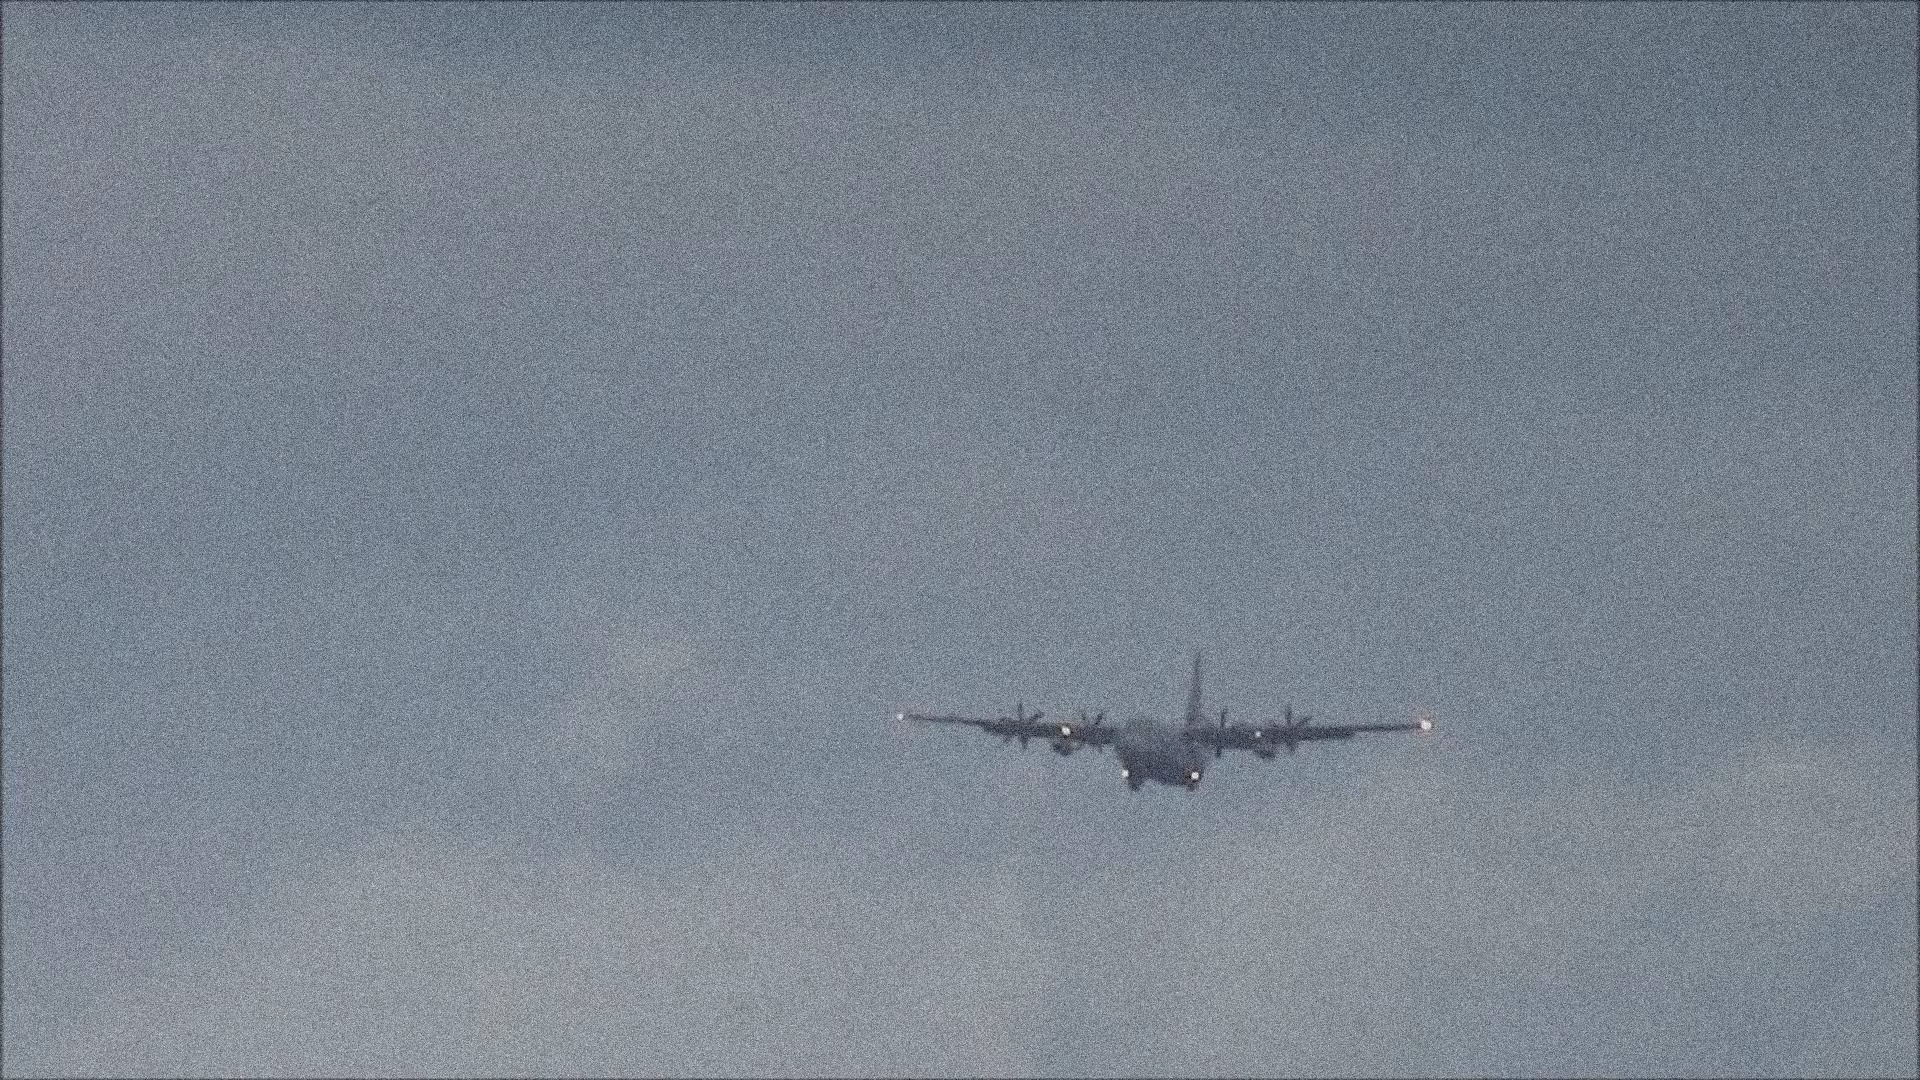Airplane: (889, 644, 1439, 793)
